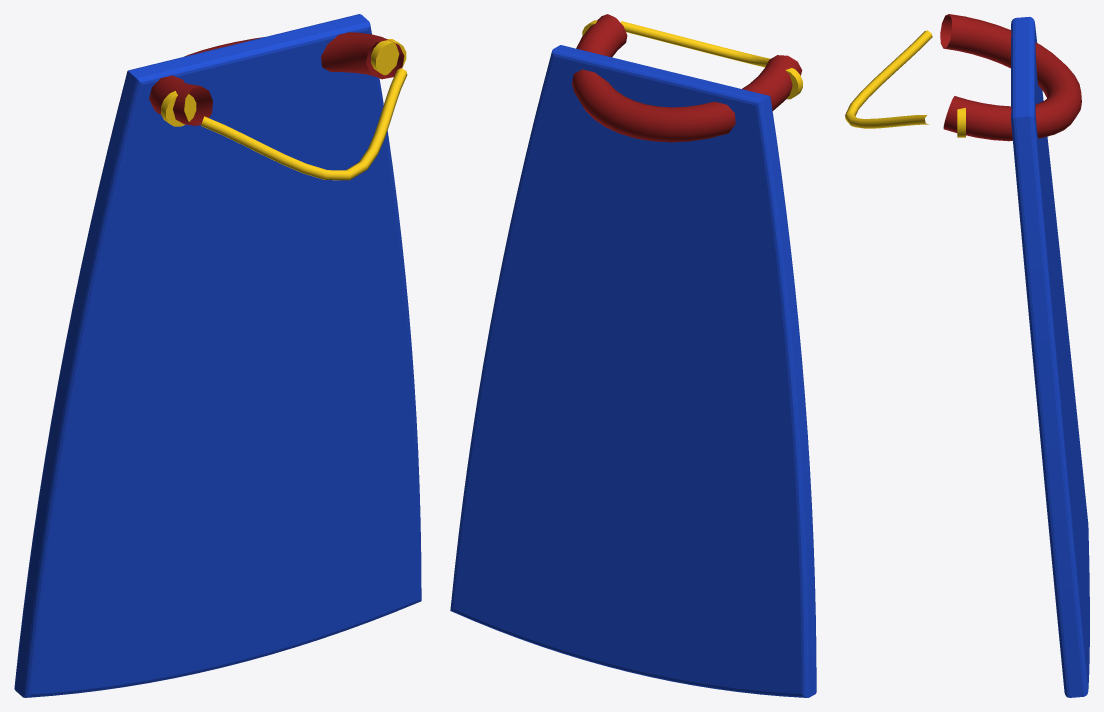
File: navy_commander.glb
3 views of the same model, side by side, from view 1: azimuth 30°, elevation 25°; view 2: azimuth 150°, elevation 25°; view 3: azimuth 270°, elevation 25° (orthographic). The views are drawn at different scales.
Parts seen in each view (by area): view 1: cape_cloth, cape_collar, shoulder_chain, clasp_1, clasp_-1; view 2: cape_cloth, cape_collar, shoulder_chain; view 3: cape_cloth, cape_collar, shoulder_chain.
Boxes of the visible parts, x1,y1,x2,y2 form: cape_cloth: (14, 14, 421, 697); cape_collar: (149, 32, 404, 125); shoulder_chain: (201, 68, 407, 180); clasp_1: (371, 39, 406, 75); clasp_-1: (161, 90, 196, 126); cape_cloth: (450, 45, 816, 697); cape_collar: (572, 14, 802, 142); shoulder_chain: (621, 21, 770, 67); cape_cloth: (1011, 16, 1089, 697); cape_collar: (940, 14, 1081, 141); shoulder_chain: (845, 30, 932, 128).
Size of the model in its own units: 0.6368 by 0.9994 by 0.3873.
